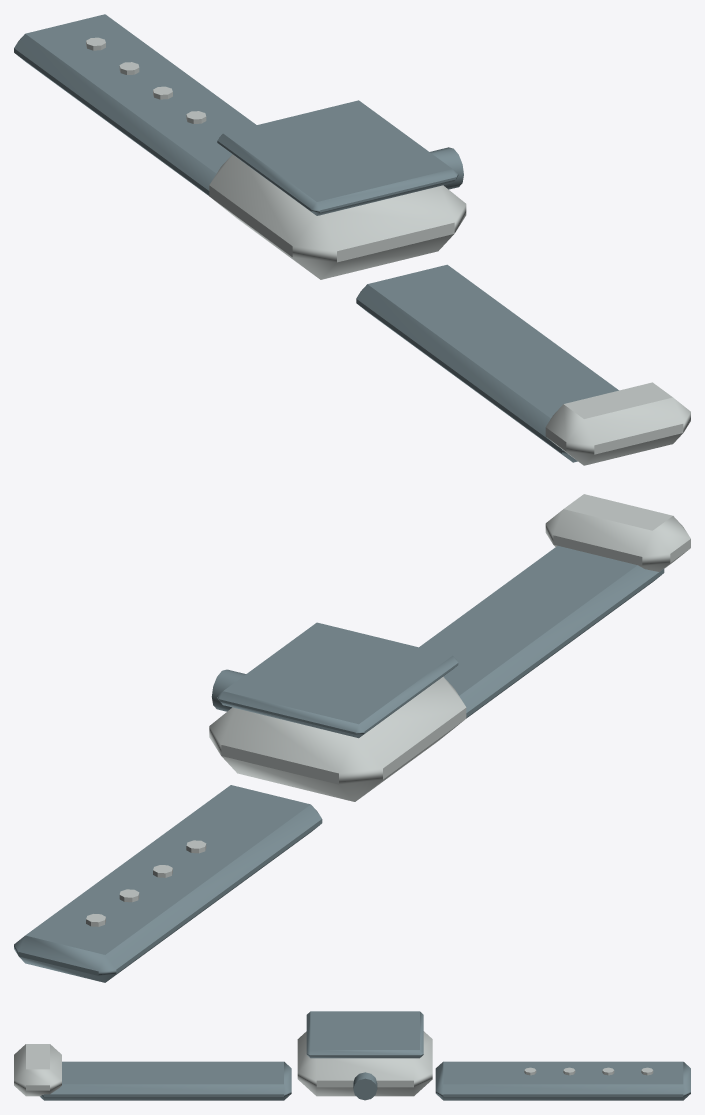
The model's file is smartwatch.glb.
3 renders of one model, top to bottom at view 1: azimuth 30°, elevation 25°; view 2: azimuth 150°, elevation 25°; view 3: azimuth 270°, elevation 25°, orthographic. The views are drawn at different scales.
Parts seen in each view (by area): view 1: upper_strap, lower_strap, touchscreen, watch_case, strap_buckle; view 2: lower_strap, upper_strap, touchscreen, watch_case, strap_buckle; view 3: lower_strap, upper_strap, touchscreen, watch_case, strap_buckle, crown.
Boxes of the visible parts, x1=… form: upper_strap: x1=356, y1=264, x2=618, y2=462; lower_strap: x1=14, y1=14, x2=256, y2=195; touchscreen: x1=217, y1=100, x2=458, y2=215; watch_case: x1=209, y1=154, x2=466, y2=279; strap_buckle: x1=545, y1=382, x2=690, y2=465; lower_strap: x1=14, y1=785, x2=322, y2=982; upper_strap: x1=419, y1=546, x2=664, y2=718; touchscreen: x1=217, y1=622, x2=458, y2=738; watch_case: x1=209, y1=676, x2=466, y2=801; strap_buckle: x1=545, y1=494, x2=690, y2=571; lower_strap: x1=435, y1=1061, x2=690, y2=1100; upper_strap: x1=40, y1=1061, x2=291, y2=1100; touchscreen: x1=306, y1=1011, x2=423, y2=1058; watch_case: x1=297, y1=1031, x2=432, y2=1096; strap_buckle: x1=14, y1=1044, x2=61, y2=1096; crown: x1=353, y1=1072, x2=377, y2=1100.
Size of the model in its own units: 0.0455 by 0.0215 by 0.2255.
